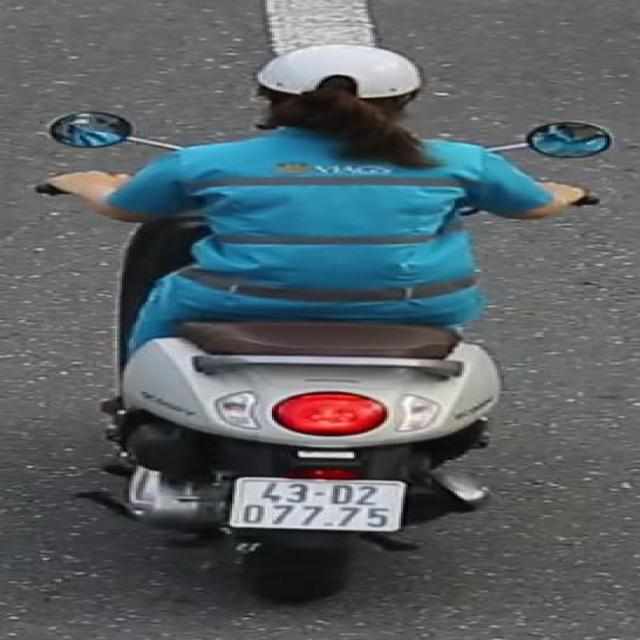LP: (225, 470, 415, 539)
helmet: (235, 33, 435, 169)
